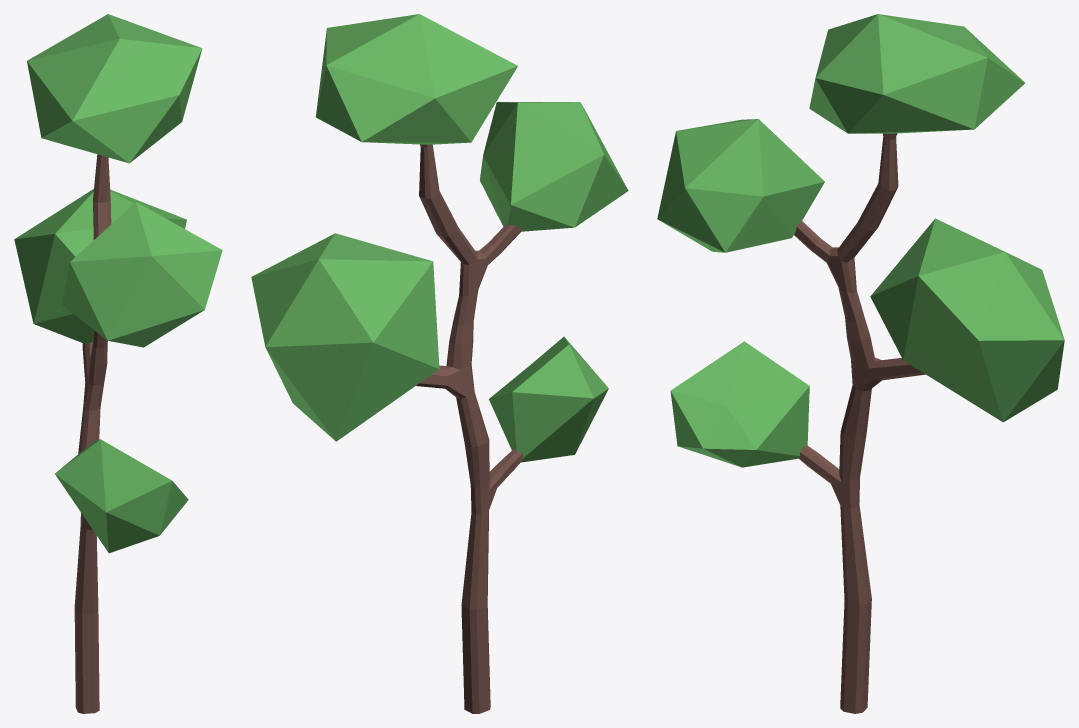
File: Tree-1.fbx
3 views of the same model, side by side, from view 1: azimuth 30°, elevation 25°; view 2: azimuth 150°, elevation 25°; view 3: azimuth 270°, elevation 25° (orthographic). The views are drawn at different scales.
Parts seen in each view (by area): view 1: Tree-1; view 2: Tree-1; view 3: Tree-1.
Part boxes in pixels (x1,y1,x2,y2): Tree-1: [14, 14, 222, 713]; Tree-1: [251, 14, 628, 713]; Tree-1: [657, 14, 1064, 713].
Bounding box in the file's own units: 5.94 × 16.26 × 8.37.
